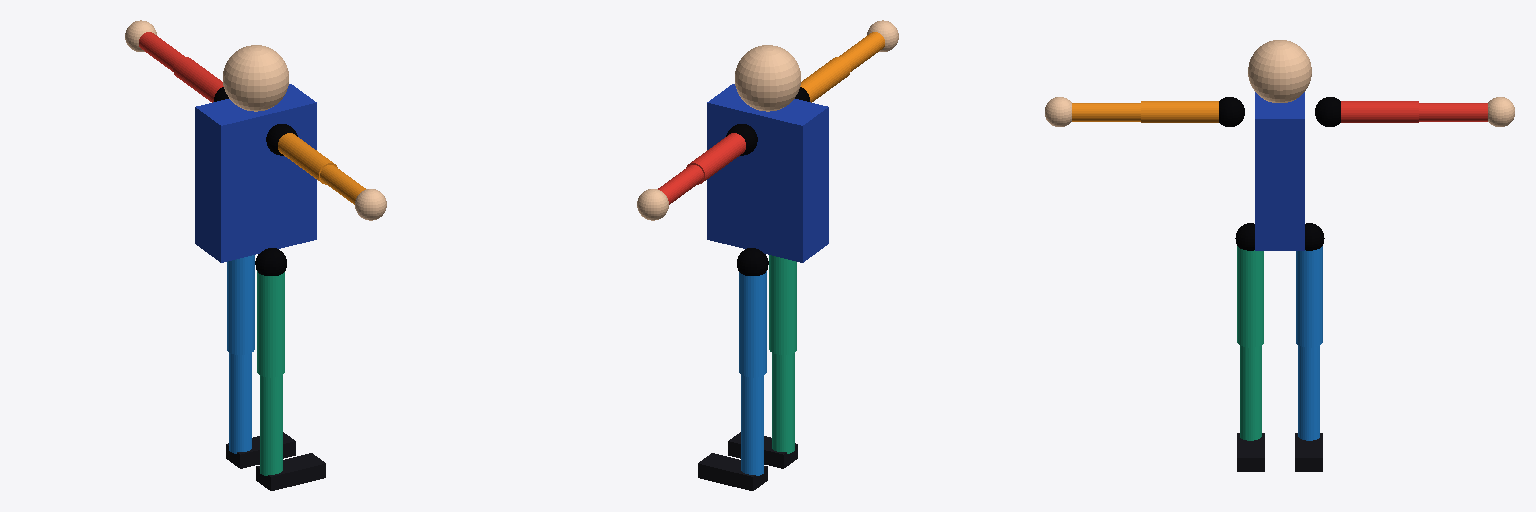
robot.urdf — dance_humanoid_22dof:
<?xml version="1.0"?>
<robot name="dance_humanoid_22dof">
  <material name="mat_torso"><color rgba="0.18 0.32 0.72 1"/></material>
  <material name="mat_core"><color rgba="0.12 0.12 0.14 1"/></material>
  <material name="mat_left_arm"><color rgba="0.88 0.26 0.22 1"/></material>
  <material name="mat_right_arm"><color rgba="0.94 0.58 0.16 1"/></material>
  <material name="mat_left_leg"><color rgba="0.18 0.56 0.88 1"/></material>
  <material name="mat_right_leg"><color rgba="0.16 0.70 0.54 1"/></material>
  <material name="mat_skin"><color rgba="0.93 0.78 0.65 1"/></material>
  <material name="mat_joint"><color rgba="0.05 0.05 0.06 1"/></material>

  <link name="base_link">
    <inertial><mass value="0.1"/><inertia ixx="0.001" ixy="0" ixz="0" iyy="0.001" iyz="0" izz="0.001"/></inertial>
  </link>

  <joint name="root_yaw" type="revolute">
    <parent link="base_link"/><child link="root_yaw_link"/>
    <origin xyz="0 0 0" rpy="0 0 0"/><axis xyz="0 0 1"/>
    <limit lower="-1.2" upper="1.2" effort="500" velocity="5"/>
  </joint>
  <link name="root_yaw_link"><inertial><mass value="0.1"/><inertia ixx="0.001" ixy="0" ixz="0" iyy="0.001" iyz="0" izz="0.001"/></inertial></link>

  <joint name="torso_roll" type="revolute">
    <parent link="root_yaw_link"/><child link="torso_roll_link"/>
    <origin xyz="0 0 0" rpy="0 0 0"/><axis xyz="1 0 0"/>
    <limit lower="-0.8" upper="0.8" effort="500" velocity="5"/>
  </joint>
  <link name="torso_roll_link"><inertial><mass value="0.1"/><inertia ixx="0.001" ixy="0" ixz="0" iyy="0.001" iyz="0" izz="0.001"/></inertial></link>

  <joint name="torso_pitch" type="revolute">
    <parent link="torso_roll_link"/><child link="torso_link"/>
    <origin xyz="0 0 0" rpy="0 0 0"/><axis xyz="0 1 0"/>
    <limit lower="-0.8" upper="0.8" effort="500" velocity="5"/>
  </joint>
  <link name="torso_link">
    <inertial><origin xyz="0 0 0.08"/><mass value="6"/><inertia ixx="0.12" ixy="0" ixz="0" iyy="0.09" iyz="0" izz="0.08"/></inertial>
    <visual><origin xyz="0 0 0.08"/><geometry><box size="0.38 0.18 0.52"/></geometry><material name="mat_torso"/></visual>
    <collision><origin xyz="0 0 0.08"/><geometry><box size="0.38 0.18 0.52"/></geometry></collision>
  </link>

  <joint name="neck_fixed" type="fixed"><parent link="torso_link"/><child link="head_link"/><origin xyz="0 0 0.44" rpy="0 0 0"/></joint>
  <link name="head_link">
    <inertial><mass value="1.1"/><inertia ixx="0.01" ixy="0" ixz="0" iyy="0.01" iyz="0" izz="0.01"/></inertial>
    <visual><geometry><sphere radius="0.115"/></geometry><material name="mat_skin"/></visual>
    <collision><geometry><sphere radius="0.115"/></geometry></collision>
  </link>

  <!-- Left arm: yaw + roll + pitch shoulder, elbow, wrist yaw/pitch. -->
  <joint name="left_shoulder_yaw" type="revolute"><parent link="torso_link"/><child link="left_shoulder_yaw_link"/><origin xyz="0 0.18 0.28" rpy="0 0 0"/><axis xyz="0 0 1"/><limit lower="-2.4" upper="2.4" effort="220" velocity="6"/></joint>
  <link name="left_shoulder_yaw_link"><inertial><mass value="0.05"/><inertia ixx="0.001" ixy="0" ixz="0" iyy="0.001" iyz="0" izz="0.001"/></inertial><visual><geometry><sphere radius="0.055"/></geometry><material name="mat_joint"/></visual></link>
  <joint name="left_shoulder_roll" type="revolute"><parent link="left_shoulder_yaw_link"/><child link="left_shoulder_roll_link"/><axis xyz="1 0 0"/><limit lower="-2.8" upper="2.8" effort="220" velocity="6"/></joint>
  <link name="left_shoulder_roll_link"><inertial><mass value="0.05"/><inertia ixx="0.001" ixy="0" ixz="0" iyy="0.001" iyz="0" izz="0.001"/></inertial></link>
  <joint name="left_shoulder_pitch" type="revolute"><parent link="left_shoulder_roll_link"/><child link="left_upper_arm"/><axis xyz="0 1 0"/><limit lower="-2.8" upper="2.8" effort="220" velocity="6"/></joint>
  <link name="left_upper_arm"><inertial><origin xyz="0 0.16 0"/><mass value="0.9"/><inertia ixx="0.01" ixy="0" ixz="0" iyy="0.006" iyz="0" izz="0.01"/></inertial><visual><origin xyz="0 0.16 0" rpy="1.5708 0 0"/><geometry><cylinder length="0.32" radius="0.04"/></geometry><material name="mat_left_arm"/></visual><collision><origin xyz="0 0.16 0" rpy="1.5708 0 0"/><geometry><cylinder length="0.32" radius="0.04"/></geometry></collision></link>
  <joint name="left_elbow" type="revolute"><parent link="left_upper_arm"/><child link="left_forearm"/><origin xyz="0 0.32 0"/><axis xyz="1 0 0"/><limit lower="0" upper="2.75" effort="180" velocity="6"/></joint>
  <link name="left_forearm"><inertial><origin xyz="0 0.145 0"/><mass value="0.7"/><inertia ixx="0.007" ixy="0" ixz="0" iyy="0.004" iyz="0" izz="0.007"/></inertial><visual><origin xyz="0 0.145 0" rpy="1.5708 0 0"/><geometry><cylinder length="0.29" radius="0.034"/></geometry><material name="mat_left_arm"/></visual><collision><origin xyz="0 0.145 0" rpy="1.5708 0 0"/><geometry><cylinder length="0.29" radius="0.034"/></geometry></collision></link>
  <joint name="left_wrist_yaw" type="revolute"><parent link="left_forearm"/><child link="left_wrist_yaw_link"/><origin xyz="0 0.29 0"/><axis xyz="0 0 1"/><limit lower="-1.4" upper="1.4" effort="80" velocity="7"/></joint>
  <link name="left_wrist_yaw_link"><inertial><mass value="0.05"/><inertia ixx="0.001" ixy="0" ixz="0" iyy="0.001" iyz="0" izz="0.001"/></inertial></link>
  <joint name="left_wrist_pitch" type="revolute"><parent link="left_wrist_yaw_link"/><child link="left_hand"/><axis xyz="1 0 0"/><limit lower="-1.2" upper="1.2" effort="80" velocity="7"/></joint>
  <link name="left_hand"><inertial><mass value="0.18"/><inertia ixx="0.001" ixy="0" ixz="0" iyy="0.001" iyz="0" izz="0.001"/></inertial><visual><geometry><sphere radius="0.055"/></geometry><material name="mat_skin"/></visual><collision><geometry><sphere radius="0.055"/></geometry></collision></link>

  <!-- Right arm. -->
  <joint name="right_shoulder_yaw" type="revolute"><parent link="torso_link"/><child link="right_shoulder_yaw_link"/><origin xyz="0 -0.18 0.28" rpy="0 0 0"/><axis xyz="0 0 1"/><limit lower="-2.4" upper="2.4" effort="220" velocity="6"/></joint>
  <link name="right_shoulder_yaw_link"><inertial><mass value="0.05"/><inertia ixx="0.001" ixy="0" ixz="0" iyy="0.001" iyz="0" izz="0.001"/></inertial><visual><geometry><sphere radius="0.055"/></geometry><material name="mat_joint"/></visual></link>
  <joint name="right_shoulder_roll" type="revolute"><parent link="right_shoulder_yaw_link"/><child link="right_shoulder_roll_link"/><axis xyz="1 0 0"/><limit lower="-2.8" upper="2.8" effort="220" velocity="6"/></joint>
  <link name="right_shoulder_roll_link"><inertial><mass value="0.05"/><inertia ixx="0.001" ixy="0" ixz="0" iyy="0.001" iyz="0" izz="0.001"/></inertial></link>
  <joint name="right_shoulder_pitch" type="revolute"><parent link="right_shoulder_roll_link"/><child link="right_upper_arm"/><axis xyz="0 1 0"/><limit lower="-2.8" upper="2.8" effort="220" velocity="6"/></joint>
  <link name="right_upper_arm"><inertial><origin xyz="0 -0.16 0"/><mass value="0.9"/><inertia ixx="0.01" ixy="0" ixz="0" iyy="0.006" iyz="0" izz="0.01"/></inertial><visual><origin xyz="0 -0.16 0" rpy="1.5708 0 0"/><geometry><cylinder length="0.32" radius="0.04"/></geometry><material name="mat_right_arm"/></visual><collision><origin xyz="0 -0.16 0" rpy="1.5708 0 0"/><geometry><cylinder length="0.32" radius="0.04"/></geometry></collision></link>
  <joint name="right_elbow" type="revolute"><parent link="right_upper_arm"/><child link="right_forearm"/><origin xyz="0 -0.32 0"/><axis xyz="-1 0 0"/><limit lower="0" upper="2.75" effort="180" velocity="6"/></joint>
  <link name="right_forearm"><inertial><origin xyz="0 -0.145 0"/><mass value="0.7"/><inertia ixx="0.007" ixy="0" ixz="0" iyy="0.004" iyz="0" izz="0.007"/></inertial><visual><origin xyz="0 -0.145 0" rpy="1.5708 0 0"/><geometry><cylinder length="0.29" radius="0.034"/></geometry><material name="mat_right_arm"/></visual><collision><origin xyz="0 -0.145 0" rpy="1.5708 0 0"/><geometry><cylinder length="0.29" radius="0.034"/></geometry></collision></link>
  <joint name="right_wrist_yaw" type="revolute"><parent link="right_forearm"/><child link="right_wrist_yaw_link"/><origin xyz="0 -0.29 0"/><axis xyz="0 0 1"/><limit lower="-1.4" upper="1.4" effort="80" velocity="7"/></joint>
  <link name="right_wrist_yaw_link"><inertial><mass value="0.05"/><inertia ixx="0.001" ixy="0" ixz="0" iyy="0.001" iyz="0" izz="0.001"/></inertial></link>
  <joint name="right_wrist_pitch" type="revolute"><parent link="right_wrist_yaw_link"/><child link="right_hand"/><axis xyz="-1 0 0"/><limit lower="-1.2" upper="1.2" effort="80" velocity="7"/></joint>
  <link name="right_hand"><inertial><mass value="0.18"/><inertia ixx="0.001" ixy="0" ixz="0" iyy="0.001" iyz="0" izz="0.001"/></inertial><visual><geometry><sphere radius="0.055"/></geometry><material name="mat_skin"/></visual><collision><geometry><sphere radius="0.055"/></geometry></collision></link>

  <!-- Left leg: yaw + roll + pitch hip, knee, ankle pitch/roll. -->
  <joint name="left_hip_yaw" type="revolute"><parent link="torso_link"/><child link="left_hip_yaw_link"/><origin xyz="0 0.105 -0.22"/><axis xyz="0 0 1"/><limit lower="-1.3" upper="1.3" effort="280" velocity="5"/></joint>
  <link name="left_hip_yaw_link"><inertial><mass value="0.06"/><inertia ixx="0.001" ixy="0" ixz="0" iyy="0.001" iyz="0" izz="0.001"/></inertial><visual><geometry><sphere radius="0.055"/></geometry><material name="mat_joint"/></visual></link>
  <joint name="left_hip_roll" type="revolute"><parent link="left_hip_yaw_link"/><child link="left_hip_roll_link"/><axis xyz="1 0 0"/><limit lower="-1.4" upper="1.4" effort="280" velocity="5"/></joint>
  <link name="left_hip_roll_link"><inertial><mass value="0.06"/><inertia ixx="0.001" ixy="0" ixz="0" iyy="0.001" iyz="0" izz="0.001"/></inertial></link>
  <joint name="left_hip_pitch" type="revolute"><parent link="left_hip_roll_link"/><child link="left_thigh"/><axis xyz="0 1 0"/><limit lower="-1.8" upper="1.8" effort="280" velocity="5"/></joint>
  <link name="left_thigh"><inertial><origin xyz="0 0 -0.205"/><mass value="1.25"/><inertia ixx="0.015" ixy="0" ixz="0" iyy="0.012" iyz="0" izz="0.006"/></inertial><visual><origin xyz="0 0 -0.205"/><geometry><cylinder length="0.41" radius="0.048"/></geometry><material name="mat_left_leg"/></visual><collision><origin xyz="0 0 -0.205"/><geometry><cylinder length="0.41" radius="0.048"/></geometry></collision></link>
  <joint name="left_knee" type="revolute"><parent link="left_thigh"/><child link="left_shin"/><origin xyz="0 0 -0.41"/><axis xyz="0 1 0"/><limit lower="0" upper="2.65" effort="260" velocity="5"/></joint>
  <link name="left_shin"><inertial><origin xyz="0 0 -0.19"/><mass value="0.95"/><inertia ixx="0.012" ixy="0" ixz="0" iyy="0.01" iyz="0" izz="0.005"/></inertial><visual><origin xyz="0 0 -0.19"/><geometry><cylinder length="0.38" radius="0.04"/></geometry><material name="mat_left_leg"/></visual><collision><origin xyz="0 0 -0.19"/><geometry><cylinder length="0.38" radius="0.04"/></geometry></collision></link>
  <joint name="left_ankle_pitch" type="revolute"><parent link="left_shin"/><child link="left_ankle_pitch_link"/><origin xyz="0 0 -0.38"/><axis xyz="0 1 0"/><limit lower="-0.9" upper="0.9" effort="120" velocity="5"/></joint>
  <link name="left_ankle_pitch_link"><inertial><mass value="0.04"/><inertia ixx="0.001" ixy="0" ixz="0" iyy="0.001" iyz="0" izz="0.001"/></inertial></link>
  <joint name="left_ankle_roll" type="revolute"><parent link="left_ankle_pitch_link"/><child link="left_foot"/><axis xyz="1 0 0"/><limit lower="-0.7" upper="0.7" effort="120" velocity="5"/></joint>
  <link name="left_foot"><inertial><origin xyz="0.08 0 -0.02"/><mass value="0.35"/><inertia ixx="0.003" ixy="0" ixz="0" iyy="0.004" iyz="0" izz="0.004"/></inertial><visual><origin xyz="0.08 0 -0.02"/><geometry><box size="0.22 0.10 0.055"/></geometry><material name="mat_core"/></visual><collision><origin xyz="0.08 0 -0.02"/><geometry><box size="0.22 0.10 0.055"/></geometry></collision></link>

  <!-- Right leg. -->
  <joint name="right_hip_yaw" type="revolute"><parent link="torso_link"/><child link="right_hip_yaw_link"/><origin xyz="0 -0.105 -0.22"/><axis xyz="0 0 1"/><limit lower="-1.3" upper="1.3" effort="280" velocity="5"/></joint>
  <link name="right_hip_yaw_link"><inertial><mass value="0.06"/><inertia ixx="0.001" ixy="0" ixz="0" iyy="0.001" iyz="0" izz="0.001"/></inertial><visual><geometry><sphere radius="0.055"/></geometry><material name="mat_joint"/></visual></link>
  <joint name="right_hip_roll" type="revolute"><parent link="right_hip_yaw_link"/><child link="right_hip_roll_link"/><axis xyz="1 0 0"/><limit lower="-1.4" upper="1.4" effort="280" velocity="5"/></joint>
  <link name="right_hip_roll_link"><inertial><mass value="0.06"/><inertia ixx="0.001" ixy="0" ixz="0" iyy="0.001" iyz="0" izz="0.001"/></inertial></link>
  <joint name="right_hip_pitch" type="revolute"><parent link="right_hip_roll_link"/><child link="right_thigh"/><axis xyz="0 1 0"/><limit lower="-1.8" upper="1.8" effort="280" velocity="5"/></joint>
  <link name="right_thigh"><inertial><origin xyz="0 0 -0.205"/><mass value="1.25"/><inertia ixx="0.015" ixy="0" ixz="0" iyy="0.012" iyz="0" izz="0.006"/></inertial><visual><origin xyz="0 0 -0.205"/><geometry><cylinder length="0.41" radius="0.048"/></geometry><material name="mat_right_leg"/></visual><collision><origin xyz="0 0 -0.205"/><geometry><cylinder length="0.41" radius="0.048"/></geometry></collision></link>
  <joint name="right_knee" type="revolute"><parent link="right_thigh"/><child link="right_shin"/><origin xyz="0 0 -0.41"/><axis xyz="0 1 0"/><limit lower="0" upper="2.65" effort="260" velocity="5"/></joint>
  <link name="right_shin"><inertial><origin xyz="0 0 -0.19"/><mass value="0.95"/><inertia ixx="0.012" ixy="0" ixz="0" iyy="0.01" iyz="0" izz="0.005"/></inertial><visual><origin xyz="0 0 -0.19"/><geometry><cylinder length="0.38" radius="0.04"/></geometry><material name="mat_right_leg"/></visual><collision><origin xyz="0 0 -0.19"/><geometry><cylinder length="0.38" radius="0.04"/></geometry></collision></link>
  <joint name="right_ankle_pitch" type="revolute"><parent link="right_shin"/><child link="right_ankle_pitch_link"/><origin xyz="0 0 -0.38"/><axis xyz="0 1 0"/><limit lower="-0.9" upper="0.9" effort="120" velocity="5"/></joint>
  <link name="right_ankle_pitch_link"><inertial><mass value="0.04"/><inertia ixx="0.001" ixy="0" ixz="0" iyy="0.001" iyz="0" izz="0.001"/></inertial></link>
  <joint name="right_ankle_roll" type="revolute"><parent link="right_ankle_pitch_link"/><child link="right_foot"/><axis xyz="1 0 0"/><limit lower="-0.7" upper="0.7" effort="120" velocity="5"/></joint>
  <link name="right_foot"><inertial><origin xyz="0.08 0 -0.02"/><mass value="0.35"/><inertia ixx="0.003" ixy="0" ixz="0" iyy="0.004" iyz="0" izz="0.004"/></inertial><visual><origin xyz="0.08 0 -0.02"/><geometry><box size="0.22 0.10 0.055"/></geometry><material name="mat_core"/></visual><collision><origin xyz="0.08 0 -0.02"/><geometry><box size="0.22 0.10 0.055"/></geometry></collision></link>
</robot>

--- Render facts (derived) ---
Views: 3 orthographic renders of the robot side by side, from view 1: azimuth 30°, elevation 25°; view 2: azimuth 150°, elevation 25°; view 3: azimuth 270°, elevation 25°.
Model dance_humanoid_22dof with 29 links and 28 joints (27 revolute, 1 fixed), rooted at base_link, posed all joints at 0.
Visible links, largest first — view 1: torso_link, head_link, right_thigh, left_thigh, right_shin, left_shin, right_foot, right_upper_arm, left_upper_arm, left_foot, right_forearm, left_forearm (+3 smaller); view 2: torso_link, head_link, left_thigh, right_thigh, left_shin, right_shin, left_foot, left_upper_arm, right_upper_arm, right_foot, left_forearm, right_forearm (+3 smaller); view 3: torso_link, head_link, left_thigh, right_thigh, left_shin, right_shin, left_upper_arm, right_upper_arm, left_forearm, right_forearm, left_foot, right_foot (+4 smaller).
Link boxes in pixels (x1,y1,x2,y2): torso_link: [195, 84, 316, 262]; head_link: [223, 45, 288, 111]; right_thigh: [257, 271, 284, 377]; left_thigh: [227, 255, 254, 354]; right_shin: [260, 375, 282, 475]; left_shin: [229, 353, 251, 453]; right_foot: [256, 453, 325, 490]; right_upper_arm: [278, 133, 337, 184]; left_upper_arm: [173, 57, 223, 102]; left_foot: [226, 432, 295, 468]; right_forearm: [320, 165, 365, 204]; left_forearm: [139, 32, 184, 71]; torso_link: [707, 84, 828, 262]; head_link: [735, 45, 800, 111]; left_thigh: [739, 271, 766, 377]; right_thigh: [769, 255, 796, 354]; left_shin: [741, 375, 763, 475]; right_shin: [772, 353, 794, 453]; left_foot: [698, 453, 767, 490]; left_upper_arm: [686, 133, 745, 184]; right_upper_arm: [800, 57, 850, 102]; right_foot: [728, 432, 797, 468]; left_forearm: [658, 165, 703, 204]; right_forearm: [839, 32, 884, 71]; torso_link: [1255, 92, 1304, 250]; head_link: [1248, 40, 1311, 102]; left_thigh: [1296, 246, 1322, 347]; right_thigh: [1237, 246, 1263, 347]; left_shin: [1298, 345, 1319, 440]; right_shin: [1240, 345, 1261, 440]; left_upper_arm: [1341, 101, 1418, 122]; right_upper_arm: [1141, 101, 1218, 122]; left_forearm: [1419, 103, 1487, 121]; right_forearm: [1072, 103, 1140, 121]; left_foot: [1295, 433, 1322, 471]; right_foot: [1237, 433, 1264, 471].
Bounding box of the posed robot: 0.38 × 1.69 × 1.61 m (x, y, z).
Geometry: primitives only (box / cylinder / sphere), no mesh files.
